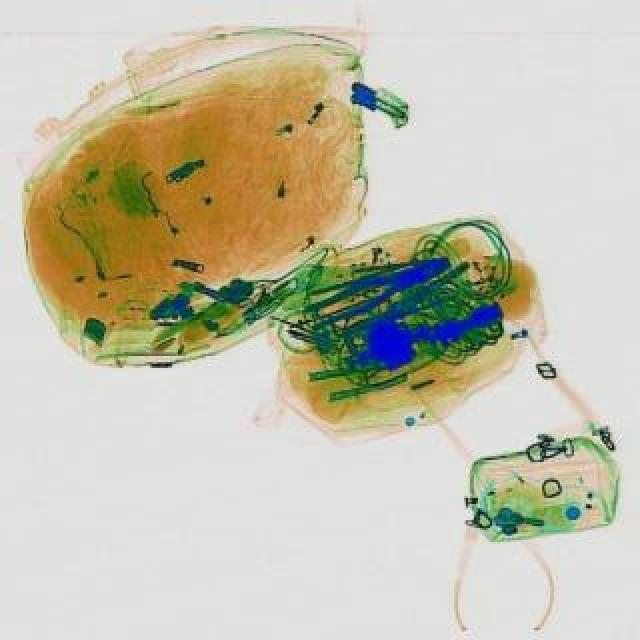wrench: (300, 246, 458, 332)
